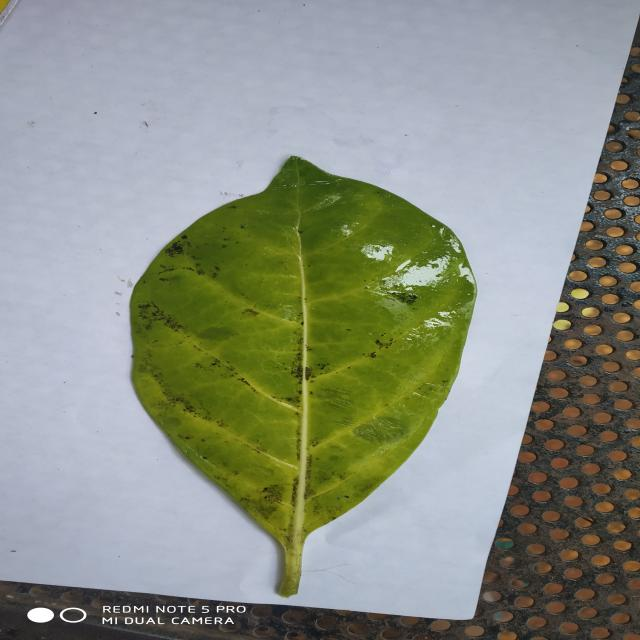leaf spot: (131, 156, 476, 598)
